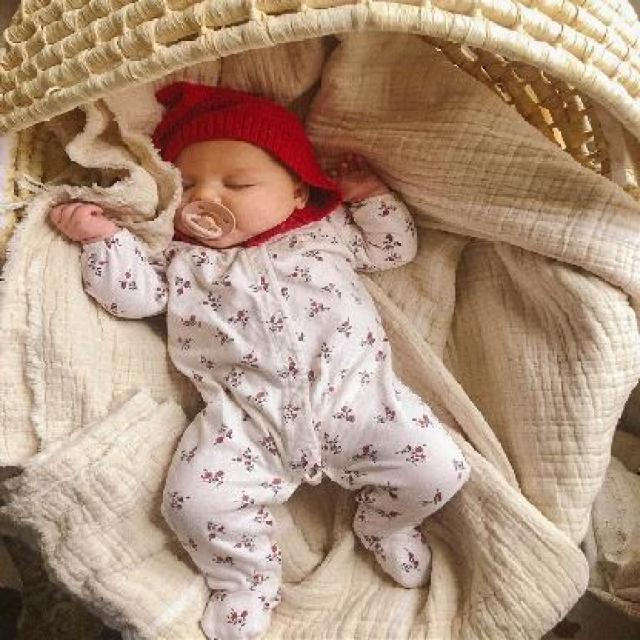baby: (45, 82, 468, 640)
